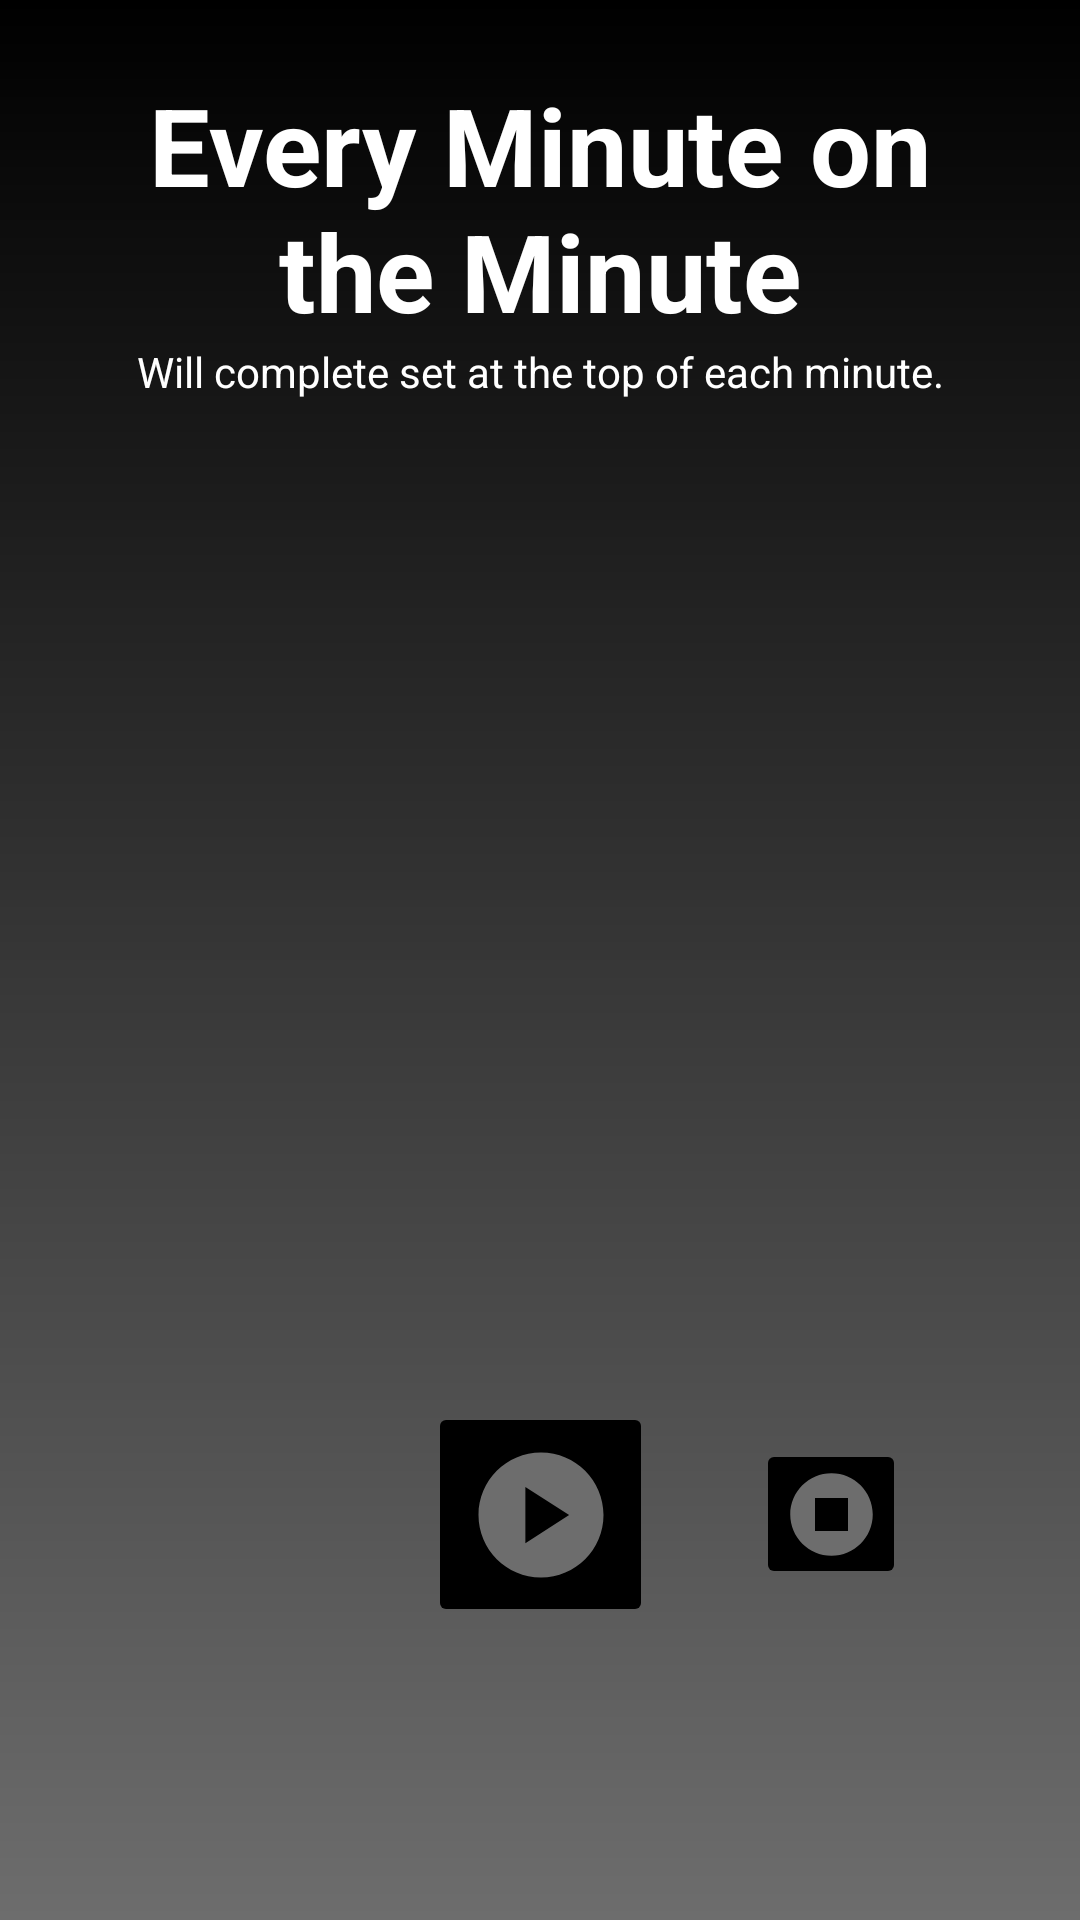

Named icons in this screenshot (1080×1920) and their bounding boxes, bbox=(x1, y1, x2, y2):
play: bbox=(440, 1420, 641, 1609)
stop: bbox=(768, 1457, 894, 1571)
